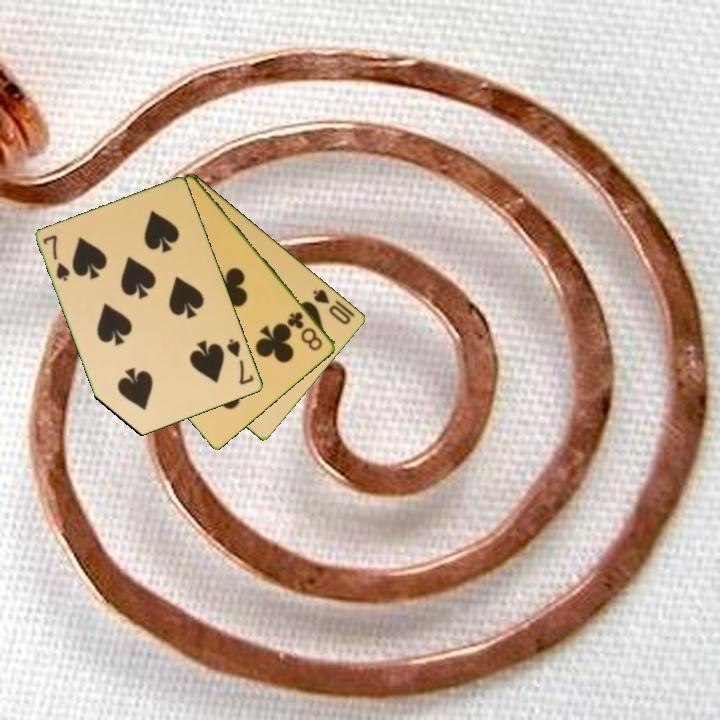10s: (310, 285, 354, 328)
7s: (40, 231, 73, 285), (224, 335, 257, 388)
8c: (284, 308, 326, 354)
